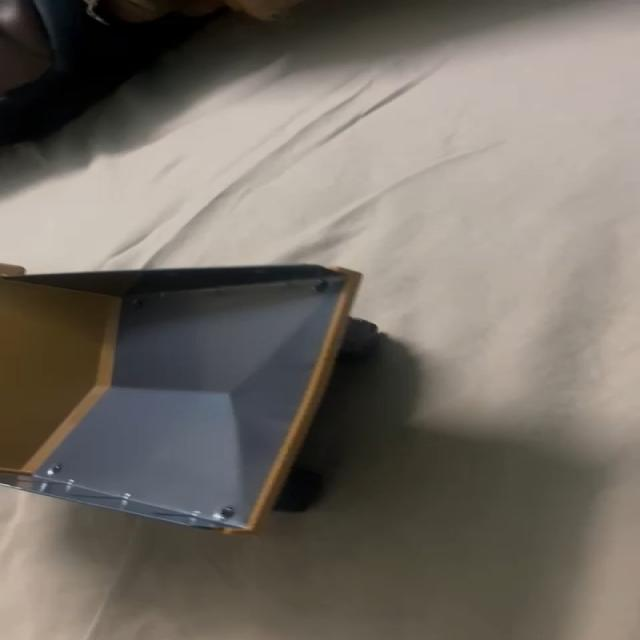dump_truck: (0, 262, 383, 531)
